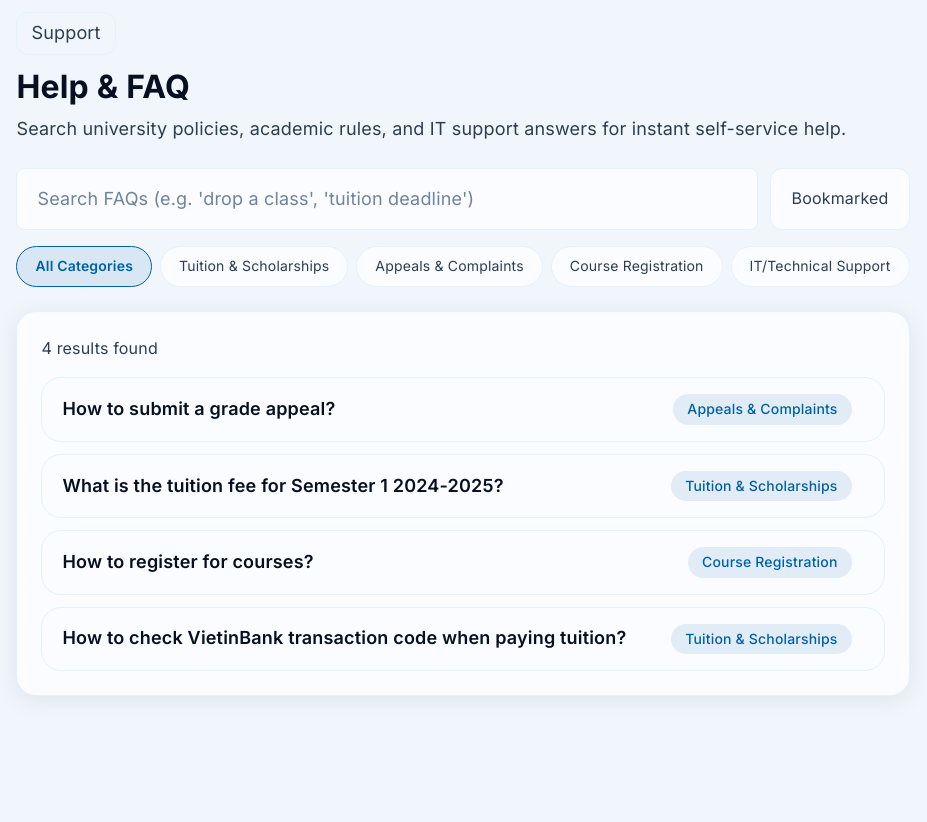
Test: FG06 - Centralized FAQ Access › TC_FAQ_14: click on a FAQ -> navigates to FAQ detail page or opens modal with answer
// Trigger click
Click the text "How to submit a grade appeal?". click: (199, 410)
box: [62,395,335,424]
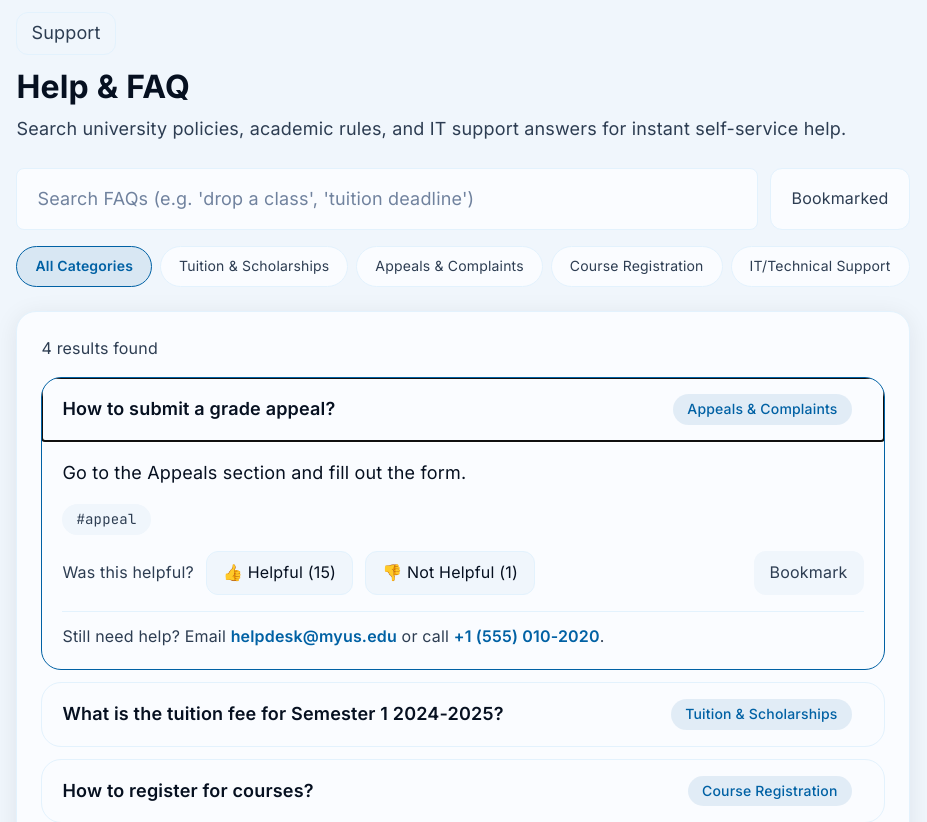
Check: the text "Go to the Appeals section and fill out the form." is shown, box [62,462,466,483]
